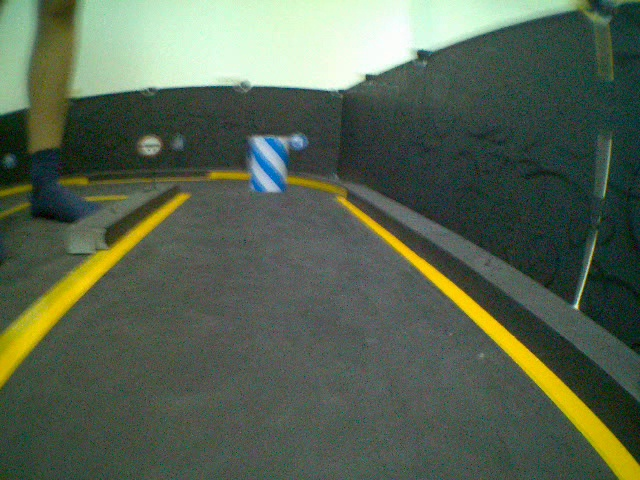bucket: (246, 133, 289, 195)
